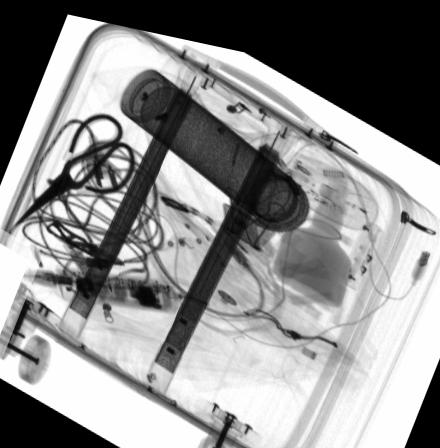Knife: (45, 217, 127, 259)
Scissors: (13, 108, 136, 225)
